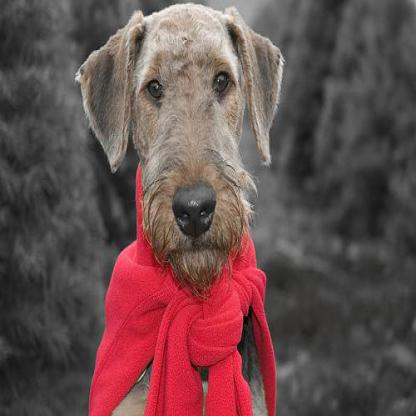dog: (75, 3, 295, 285)
